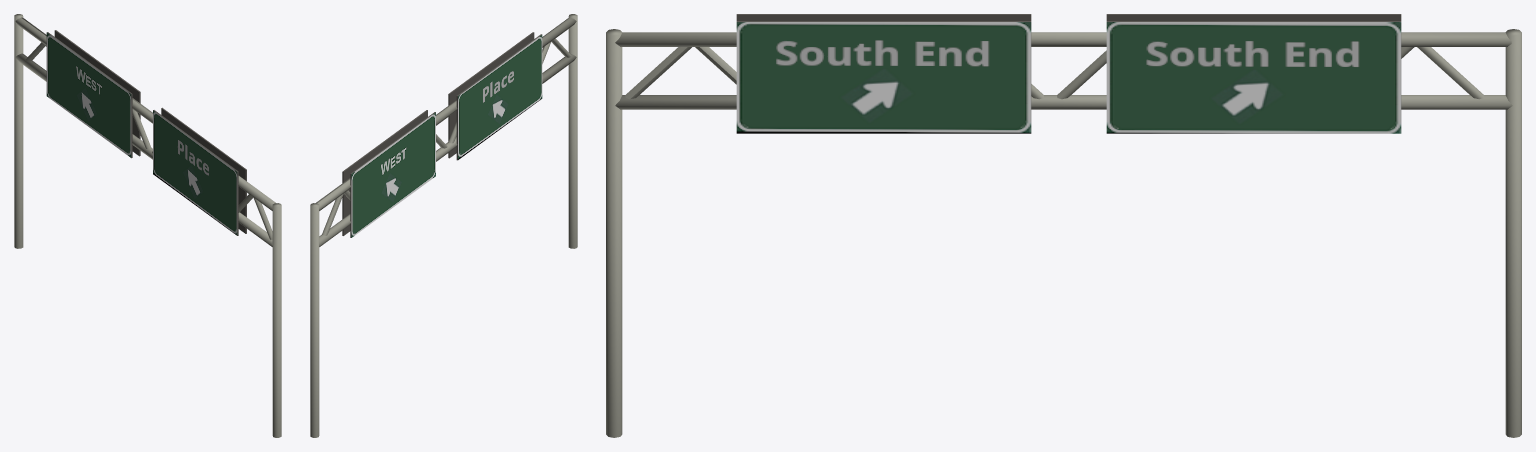
The model's file is Signal-01.fbx.
The picture shows the model from 3 angles, left to right: view 1: azimuth 30°, elevation 25°; view 2: azimuth 150°, elevation 25°; view 3: azimuth 270°, elevation 25°; orthographic projection. The views are drawn at different scales.
Visible parts, largest first — view 1: Metal, Signal-04, Signal-01, Signal-05; view 2: Metal, Signal-01, Signal-04; view 3: Signal-05, Signal-03, Metal, Signal-04.
Part boxes in pixels (x1,y1,x2,y2): Metal: (14, 14, 281, 437); Signal-04: (46, 32, 246, 233); Signal-01: (54, 30, 238, 235); Signal-05: (55, 30, 238, 235); Metal: (310, 14, 577, 437); Signal-01: (342, 34, 542, 235); Signal-04: (350, 32, 534, 237); Signal-05: (736, 14, 1401, 133); Signal-03: (736, 21, 1031, 133); Metal: (606, 29, 1521, 437); Signal-04: (1026, 14, 1401, 21).
Size of what is drawn, in the model's own units: 0.3436 by 8.25 by 16.43.
